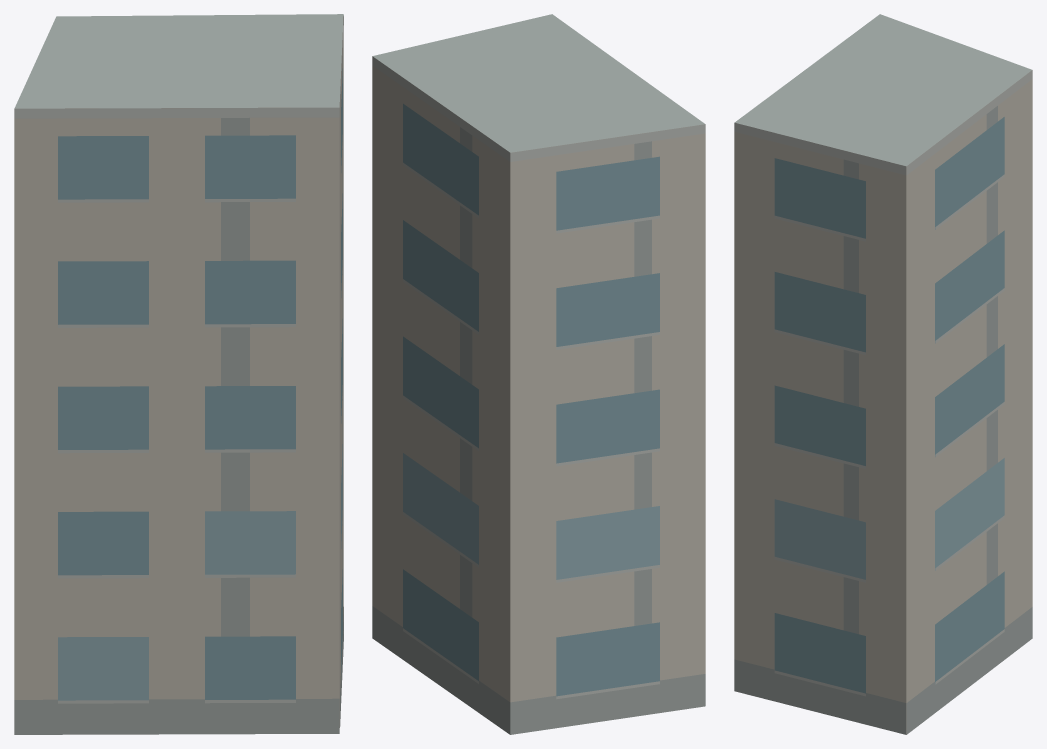
File: survey-upis-32733895.glb
The picture shows the model from 3 angles, left to right: view 1: azimuth 30°, elevation 25°; view 2: azimuth 150°, elevation 25°; view 3: azimuth 270°, elevation 25°; orthographic projection. The views are drawn at different scales.
Visible parts, largest first — view 1: survey-upis-32733895.tmp; view 2: survey-upis-32733895.tmp; view 3: survey-upis-32733895.tmp.
Part boxes in pixels (x1=…): survey-upis-32733895.tmp: x1=14, y1=14, x2=343, y2=734; survey-upis-32733895.tmp: x1=372, y1=14, x2=705, y2=734; survey-upis-32733895.tmp: x1=734, y1=14, x2=1032, y2=734.
Bounding box in the file's own units: 8.77 × 15.25 × 7.26.
